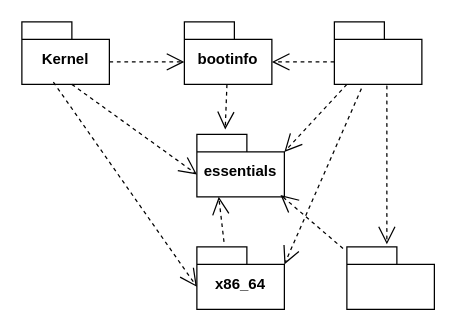
This 456x331 diagram has some shape labels left out. Here are the shapes that lost their labels. From the top down, the centre of each, then its label:
the point at 377,52: Pre-kernel
the point at 390,277: elf
